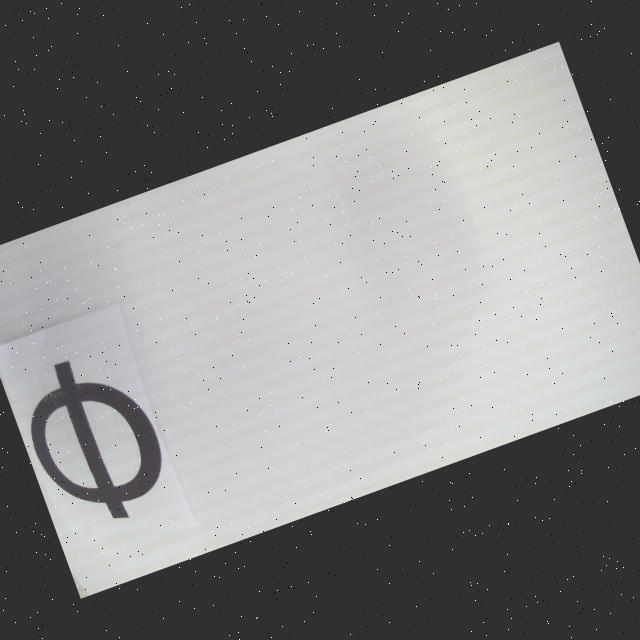PHI: (10, 338, 180, 540)
